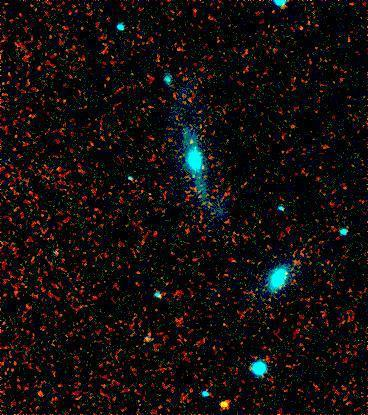star: (212, 389, 242, 415)
